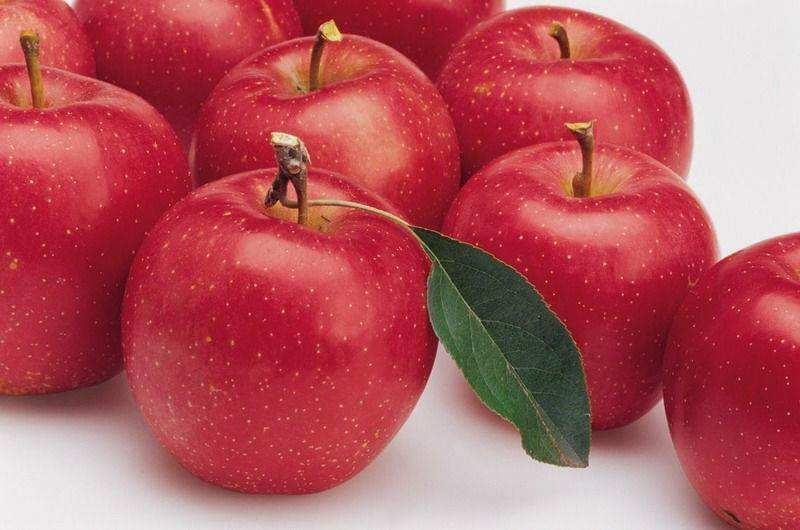apple: (110, 163, 442, 496), (434, 133, 725, 447), (1, 63, 191, 396), (185, 28, 460, 232), (429, 6, 692, 195), (661, 232, 800, 528), (68, 1, 294, 126)
